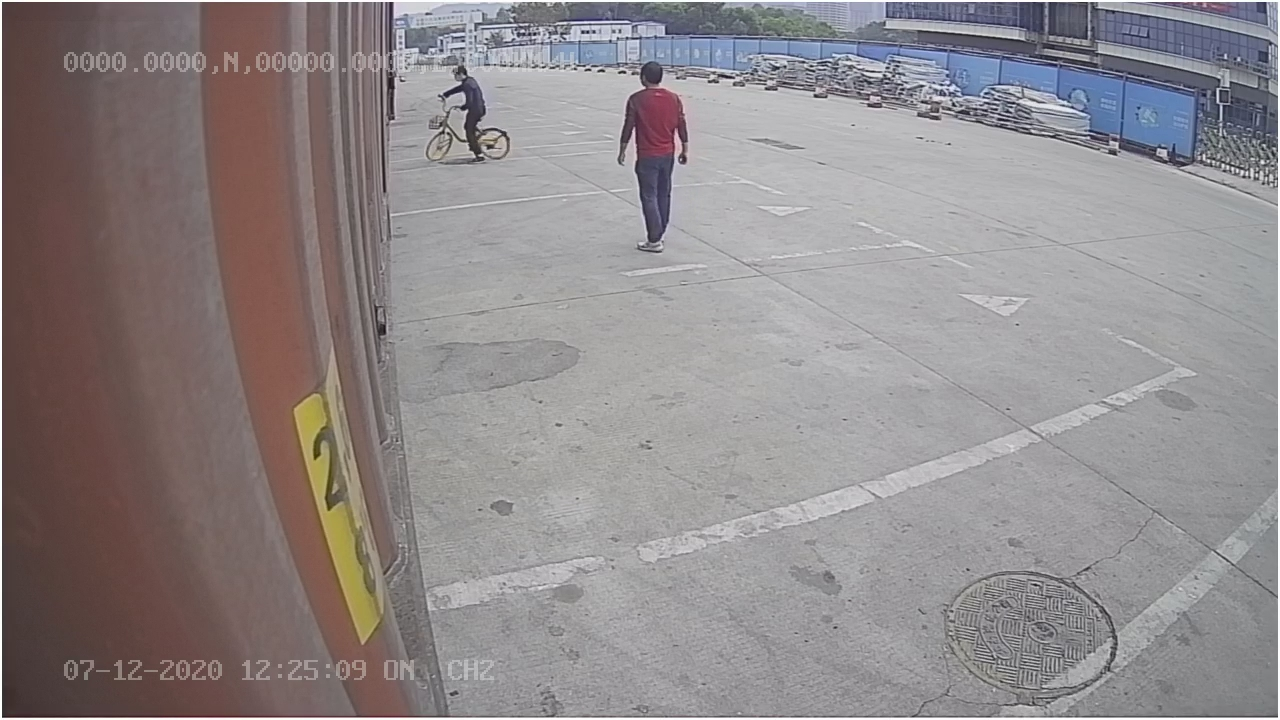person: (614, 60, 692, 256)
